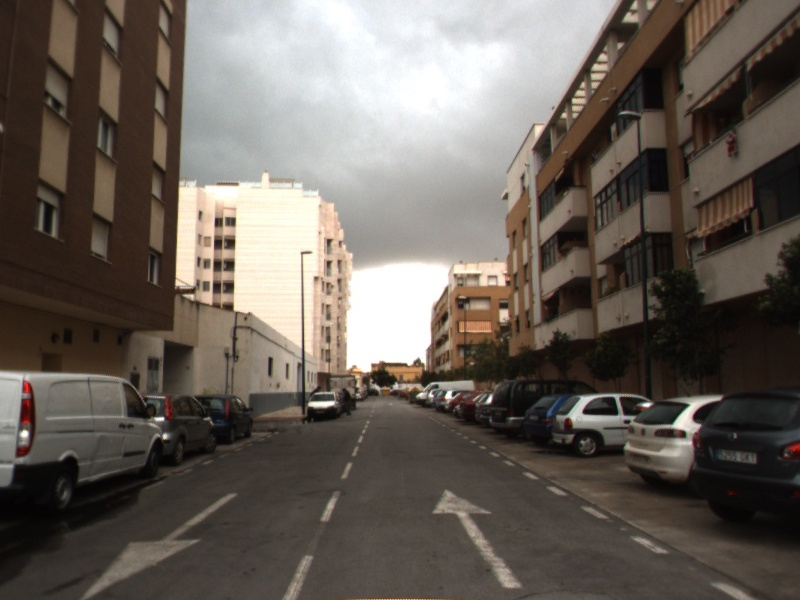STRAIGHT: (429, 484, 524, 591)
